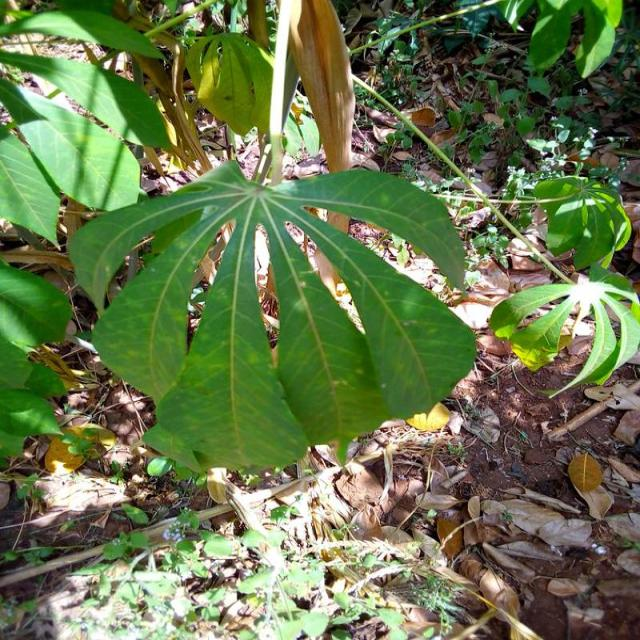cassava leaf: (69, 156, 477, 474)
